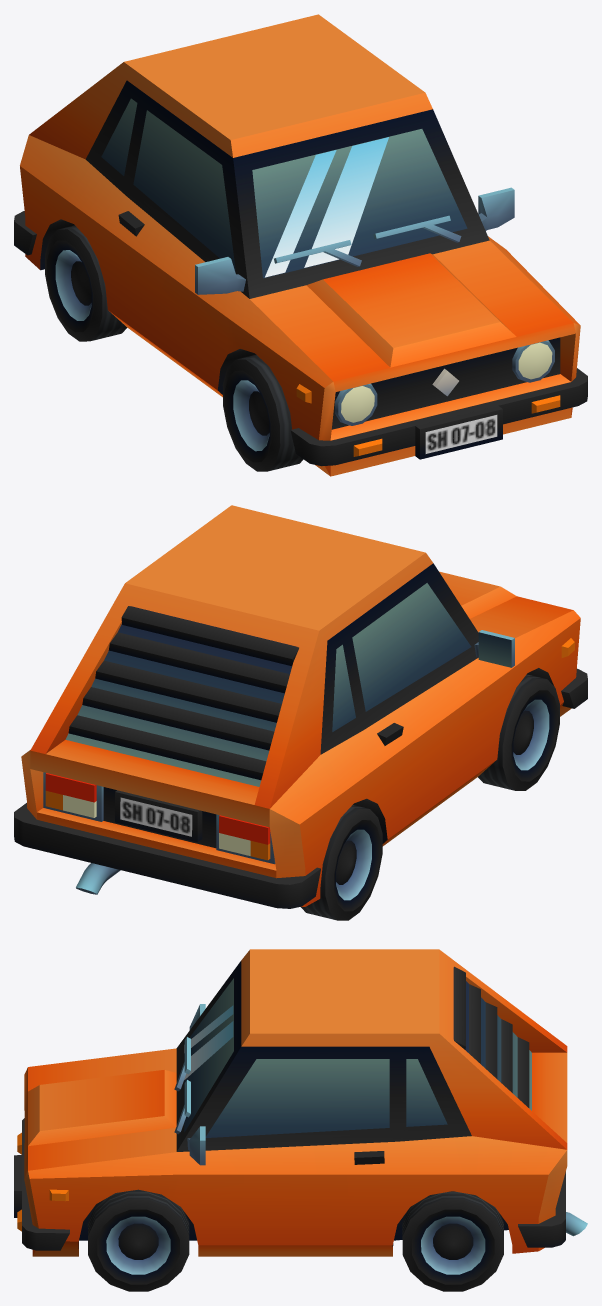
File: hatchback.glb
The picture shows the model from 3 angles, top to bottom: view 1: azimuth 30°, elevation 25°; view 2: azimuth 150°, elevation 25°; view 3: azimuth 270°, elevation 25°; orthographic projection. The views are drawn at different scales.
Visible parts, largest first — view 1: body; view 2: body; view 3: body.
Part boxes in pixels (box(x1,y1,x2,y2)): body: box(14, 14, 587, 476); body: box(14, 505, 587, 920); body: box(14, 949, 587, 1291).
Bounding box in the file's own units: 0.964 × 0.7881 × 1.71.
Materials: 2 (2 with a texture image).
